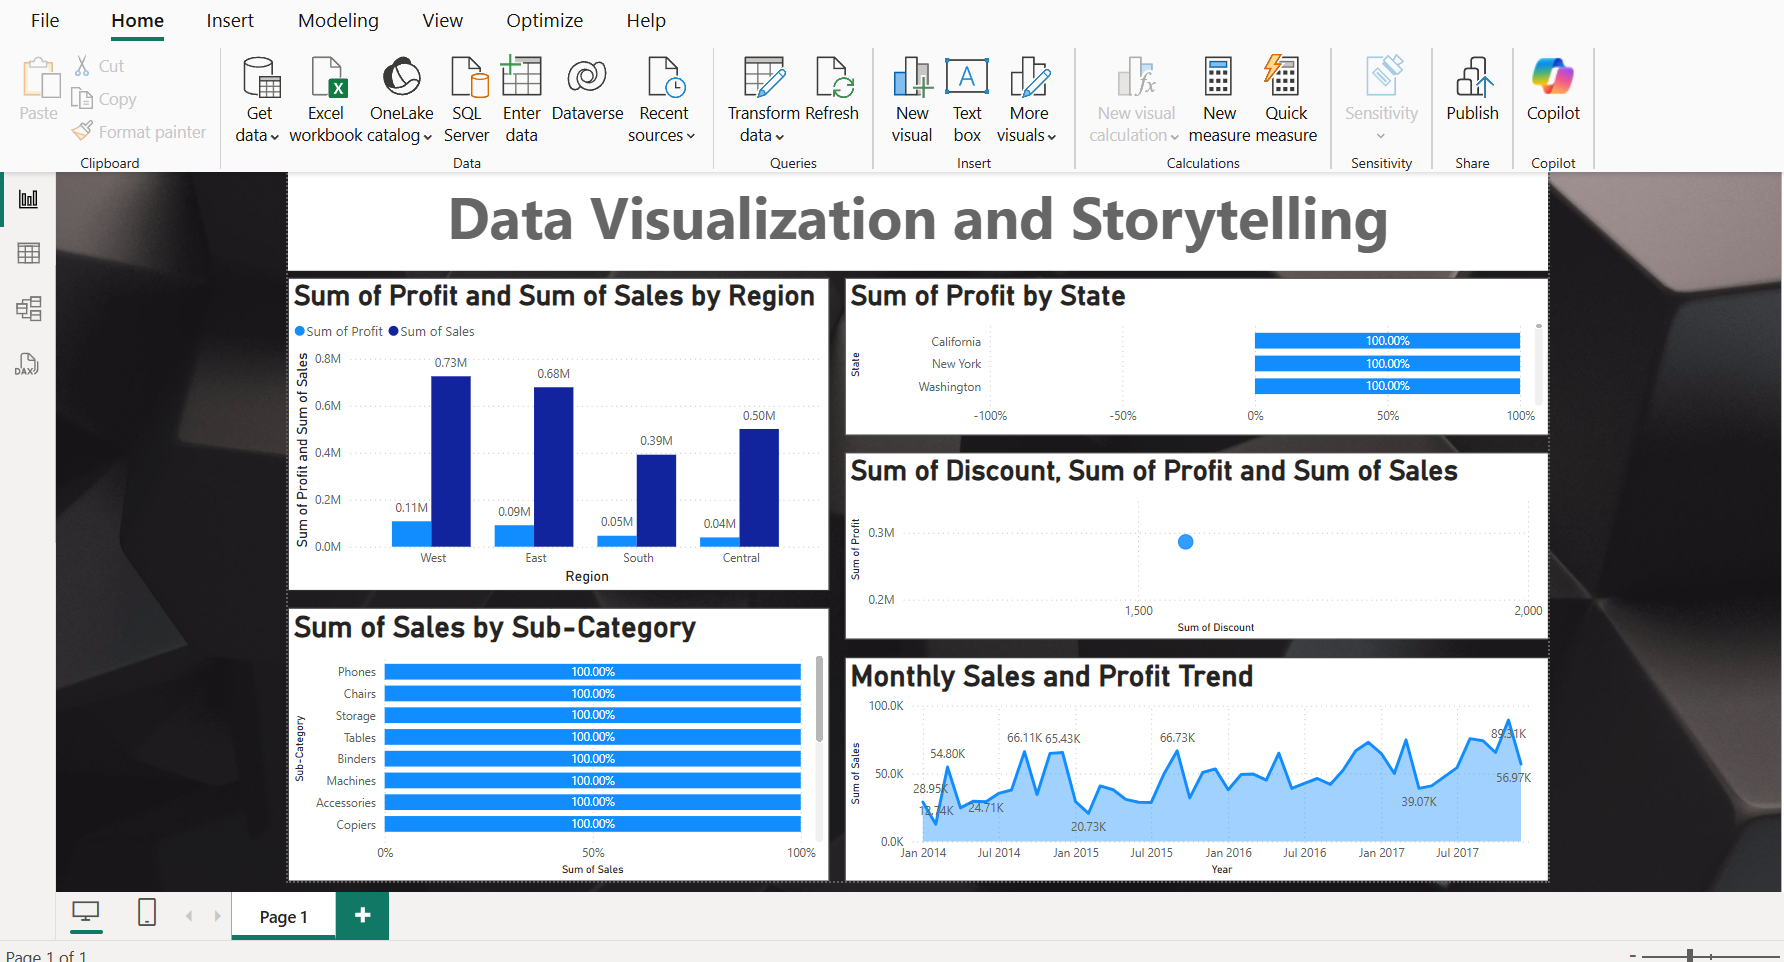

What the dashboard file says about the page in this screenshot:
{"tool":"powerbi","page":{"name":"Page 1","canvas":[1280,720],"ordinal":0},"visuals":[{"type":"clusteredColumnChart","fields":{"Category":["Superstore_Dataset.Region"],"Y":["Sum(Superstore_Dataset.Profit)","Sum(Superstore_Dataset.Sales)"]},"box":[0,107.5,550,317.5],"z":0},{"type":"hundredPercentStackedBarChart","fields":{"Category":["Superstore_Dataset.Sub-Category"],"Y":["Sum(Superstore_Dataset.Sales)"]},"box":[0,442.5,550,277.5],"z":1000},{"type":"scatterChart","fields":{"X":["Sum(Superstore_Dataset.Discount)"],"Y":["Sum(Superstore_Dataset.Profit)"],"Size":["Sum(Superstore_Dataset.Sales)"]},"box":[565,285,715,190],"z":2000},{"type":"lineChart","title":"Monthly Sales and Profit Trend","fields":{"Y":["Sum(Superstore_Dataset.Sales)"],"Category":["Superstore_Dataset.Order Date.Variation.Date Hierarchy.Year","Superstore_Dataset.Order Date.Variation.Date Hierarchy.Month"]},"box":[565,492.5,715,227.5],"z":3000},{"type":"hundredPercentStackedBarChart","fields":{"Category":["Superstore_Dataset.State"],"Y":["Sum(Superstore_Dataset.Profit)"]},"box":[565,107.5,715,160],"z":4000},{"type":"textbox","box":[0,0,1280,100],"z":5000}]}

Visuals, with their boxes on the page's 1280x720 design canvas (x1, y1, x2, y2). These are canvas units, not pixel positions in the 1784x962 screenshot, which may show the page scaled, cropped or inside an application window:
clusteredColumnChart - Superstore_Dataset.Region x Sum(Superstore_Dataset.Profit): (left=0, top=108, right=550, bottom=425)
hundredPercentStackedBarChart - Superstore_Dataset.Sub-Category x Sum(Superstore_Dataset.Sales): (left=0, top=442, right=550, bottom=720)
scatterChart - Sum(Superstore_Dataset.Discount) x Sum(Superstore_Dataset.Profit): (left=565, top=285, right=1280, bottom=475)
"Monthly Sales and Profit Trend" lineChart: (left=565, top=492, right=1280, bottom=720)
hundredPercentStackedBarChart - Superstore_Dataset.State x Sum(Superstore_Dataset.Profit): (left=565, top=108, right=1280, bottom=268)
textbox: (left=0, top=0, right=1280, bottom=100)
